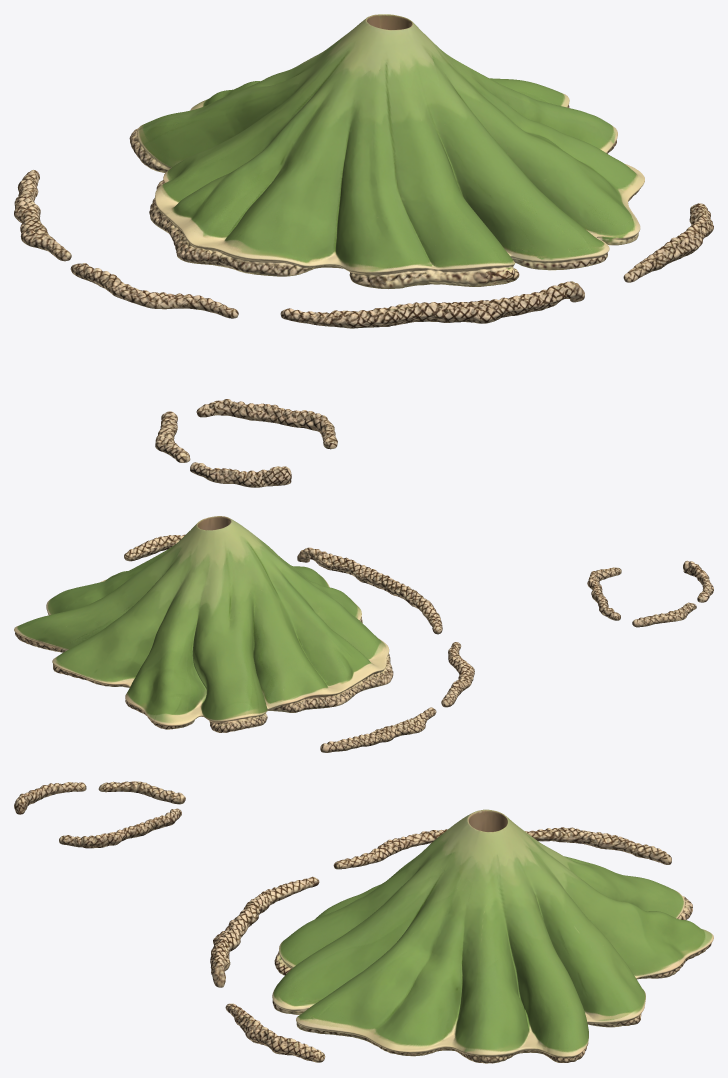
File: Resifler.glb
3 views of the same model, one above another, from view 1: azimuth 30°, elevation 25°; view 2: azimuth 150°, elevation 25°; view 3: azimuth 270°, elevation 25° (orthographic). The views are drawn at different scales.
Visible parts, largest first — view 1: Mesh_0; view 2: Mesh_0; view 3: Mesh_0.
Boxes of the visible parts, x1,y1,x2,y2 form: Mesh_0: [14, 14, 713, 487]; Mesh_0: [14, 516, 713, 752]; Mesh_0: [14, 781, 713, 1063].
Bounding box in the file's own units: 1.8 × 0.457 × 1.9.
1 material, 1 textured.
